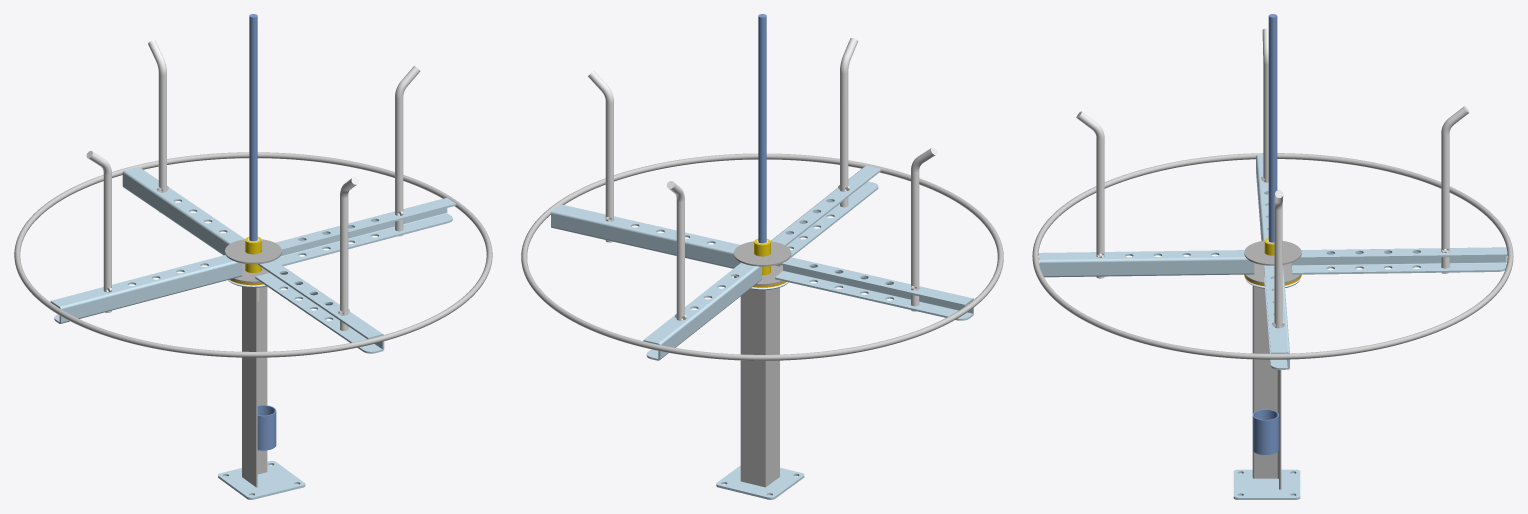
The picture shows the model from 3 angles, left to right: view 1: azimuth 30°, elevation 25°; view 2: azimuth 150°, elevation 25°; view 3: azimuth 270°, elevation 25°; orthographic projection.
Visible parts, largest first — view 1: Stand - U Chanell (×4), Stand - External Ring 0.313, Stand - Bent Galvanized Bar 0.438 (×4), Stand - Base Angle 1.5x1.5x0.125, Stand - Center Galvanized Bar 0.438, Stand - Base Plate 3.5x3.5x0.125, Stand - Main Assembly Disc, Stand - Tube Holder 1.375x0.0625; view 2: Stand - U Chanell (×4), Stand - Base Angle 1.5x1.5x0.125, Stand - External Ring 0.313, Stand - Bent Galvanized Bar 0.438 (×4), Stand - Center Galvanized Bar 0.438, Stand - Base Plate 3.5x3.5x0.125, Stand - Main Assembly Disc; view 3: Stand - U Chanell (×4), Stand - External Ring 0.313, Stand - Bent Galvanized Bar 0.438 (×4), Stand - Base Angle 1.5x1.5x0.125, Stand - Center Galvanized Bar 0.438, Stand - Base Plate 3.5x3.5x0.125, Stand - Tube Holder 1.375x0.0625, Stand - Main Assembly Disc.
Boxes of the visible parts, bbox=[...] form: Stand - U Chanell (×4): bbox=[50, 166, 456, 353]; Stand - External Ring 0.313: bbox=[14, 152, 492, 357]; Stand - Bent Galvanized Bar 0.438 (×4): bbox=[86, 40, 420, 330]; Stand - Base Angle 1.5x1.5x0.125: bbox=[242, 286, 267, 487]; Stand - Center Galvanized Bar 0.438: bbox=[249, 14, 257, 241]; Stand - Base Plate 3.5x3.5x0.125: bbox=[218, 461, 305, 499]; Stand - Main Assembly Disc: bbox=[225, 239, 281, 264]; Stand - Tube Holder 1.375x0.0625: bbox=[257, 405, 276, 450]; Stand - U Chanell (×4): bbox=[551, 165, 973, 360]; Stand - Base Angle 1.5x1.5x0.125: bbox=[740, 287, 779, 487]; Stand - External Ring 0.313: bbox=[521, 153, 1003, 360]; Stand - Bent Galvanized Bar 0.438 (×4): bbox=[588, 38, 937, 320]; Stand - Center Galvanized Bar 0.438: bbox=[758, 14, 766, 243]; Stand - Base Plate 3.5x3.5x0.125: bbox=[716, 465, 804, 499]; Stand - Main Assembly Disc: bbox=[733, 241, 791, 266]; Stand - U Chanell (×4): bbox=[1038, 155, 1507, 369]; Stand - External Ring 0.313: bbox=[1032, 153, 1513, 359]; Stand - Bent Galvanized Bar 0.438 (×4): bbox=[1076, 28, 1469, 328]; Stand - Base Angle 1.5x1.5x0.125: bbox=[1252, 286, 1281, 489]; Stand - Center Galvanized Bar 0.438: bbox=[1268, 14, 1277, 242]; Stand - Base Plate 3.5x3.5x0.125: bbox=[1233, 469, 1300, 499]; Stand - Tube Holder 1.375x0.0625: bbox=[1252, 409, 1278, 454]; Stand - Main Assembly Disc: bbox=[1244, 240, 1301, 265].
Size of the model in its own units: 0.6395 by 0.6858 by 0.6395.
